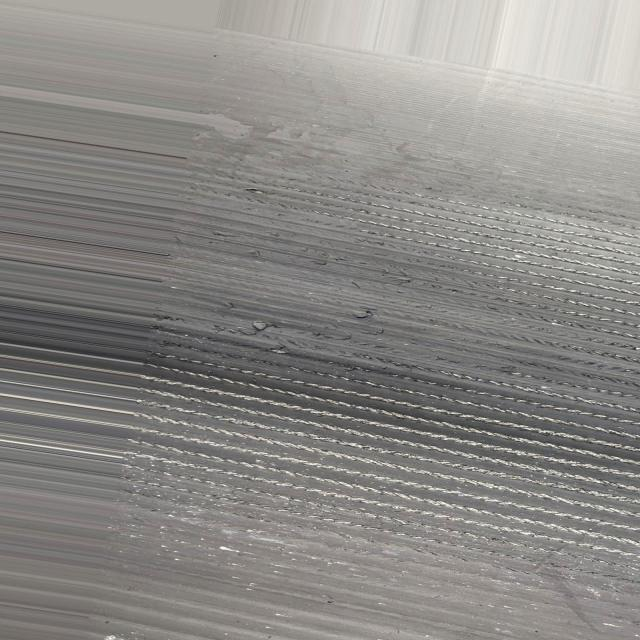Impact Damage: (128, 155, 640, 577)
